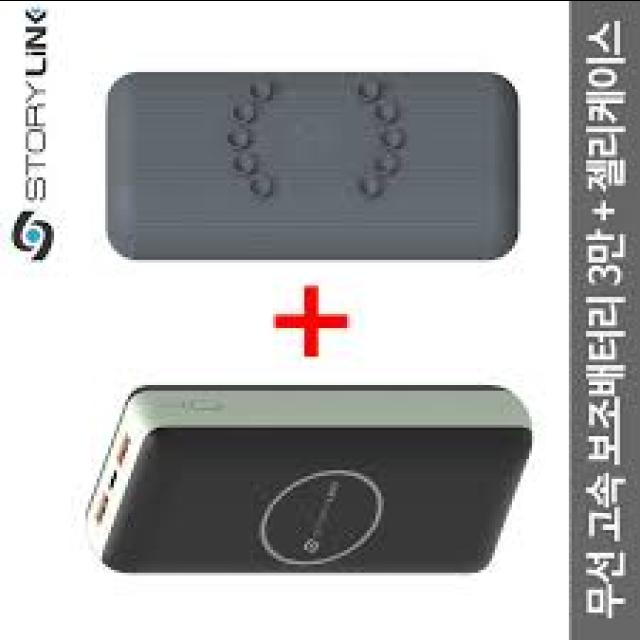power_bank: (84, 381, 538, 574)
